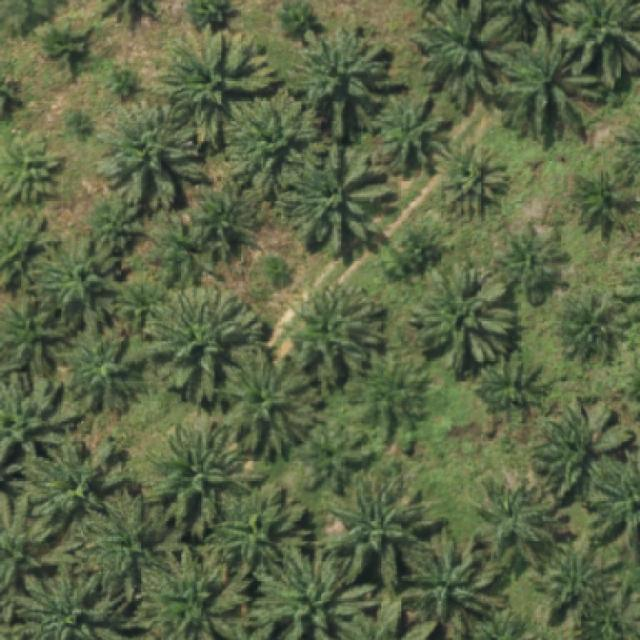Kelapa_Sawit: (158, 24, 282, 148), (322, 466, 440, 596), (144, 422, 267, 540), (146, 285, 265, 406), (491, 24, 603, 150), (288, 22, 404, 140), (280, 141, 392, 256), (210, 347, 328, 455), (412, 259, 518, 378), (25, 422, 126, 544), (96, 99, 204, 210), (414, 0, 520, 111), (225, 86, 328, 200), (280, 280, 388, 386), (531, 394, 637, 500), (80, 485, 175, 603), (399, 527, 508, 624), (24, 240, 127, 337), (211, 478, 307, 580), (57, 312, 146, 414), (530, 534, 621, 628), (474, 476, 561, 572), (343, 348, 429, 439), (430, 138, 512, 220), (190, 174, 264, 263), (140, 208, 222, 288), (566, 152, 640, 240), (496, 217, 569, 305), (369, 92, 448, 173), (559, 289, 630, 366), (298, 422, 372, 495), (473, 350, 552, 415), (0, 131, 65, 206), (90, 195, 158, 253), (34, 15, 97, 77), (113, 270, 172, 336), (276, 0, 321, 37), (106, 64, 142, 98)
